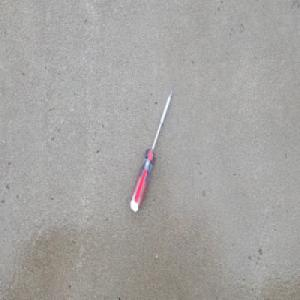Screwdriver: (129, 87, 174, 214)
